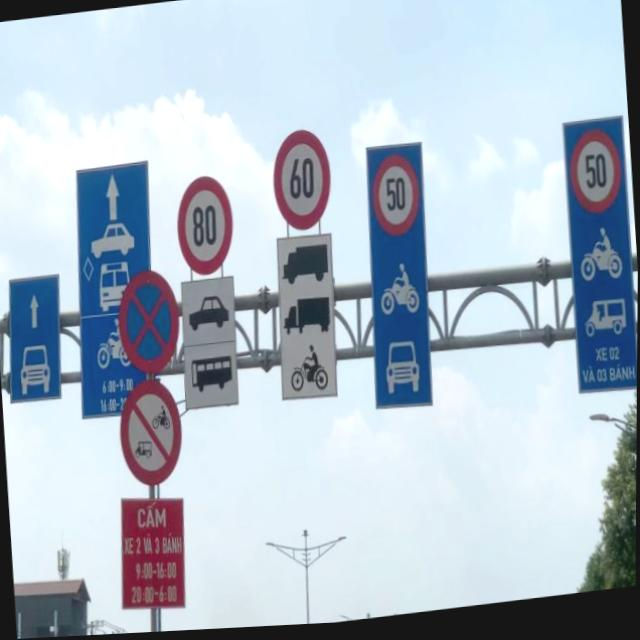Cam dung xe va do xe: (114, 267, 184, 379)
Toc do toi da cho phep: (269, 129, 335, 236), (173, 173, 237, 281), (567, 132, 625, 223), (369, 155, 422, 243)
